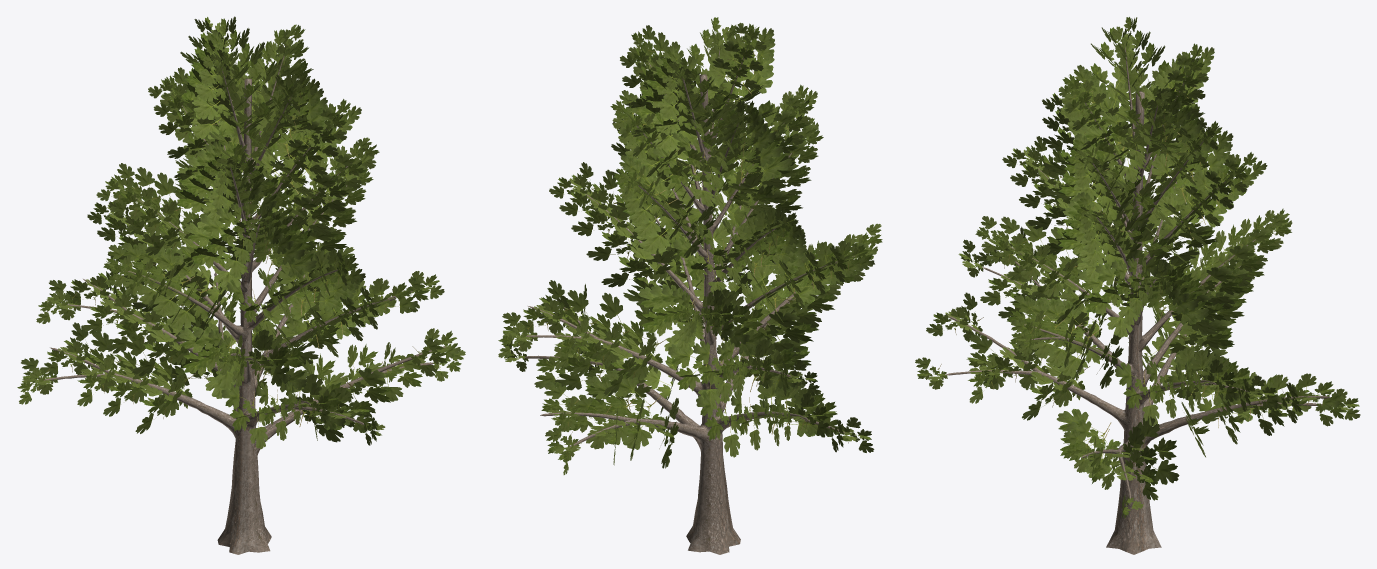
Rendered from Tree4.obj.
3 renders of one model, left to right at view 1: azimuth 30°, elevation 25°; view 2: azimuth 150°, elevation 25°; view 3: azimuth 270°, elevation 25°, orthographic. The views are drawn at different scales.
Parts seen in each view (by area): view 1: branch05, bark_willow_02_diff_1k; view 2: branch05, bark_willow_02_diff_1k; view 3: branch05, bark_willow_02_diff_1k.
Boxes of the visible parts, x1,y1,x2,y2 form: branch05: (17, 16, 465, 449); bark_willow_02_diff_1k: (44, 55, 445, 554); branch05: (498, 17, 882, 474); bark_willow_02_diff_1k: (524, 48, 854, 554); branch05: (915, 17, 1360, 518); bark_willow_02_diff_1k: (945, 47, 1332, 554).
Bounding box in the file's own units: 163 × 198 × 157.
